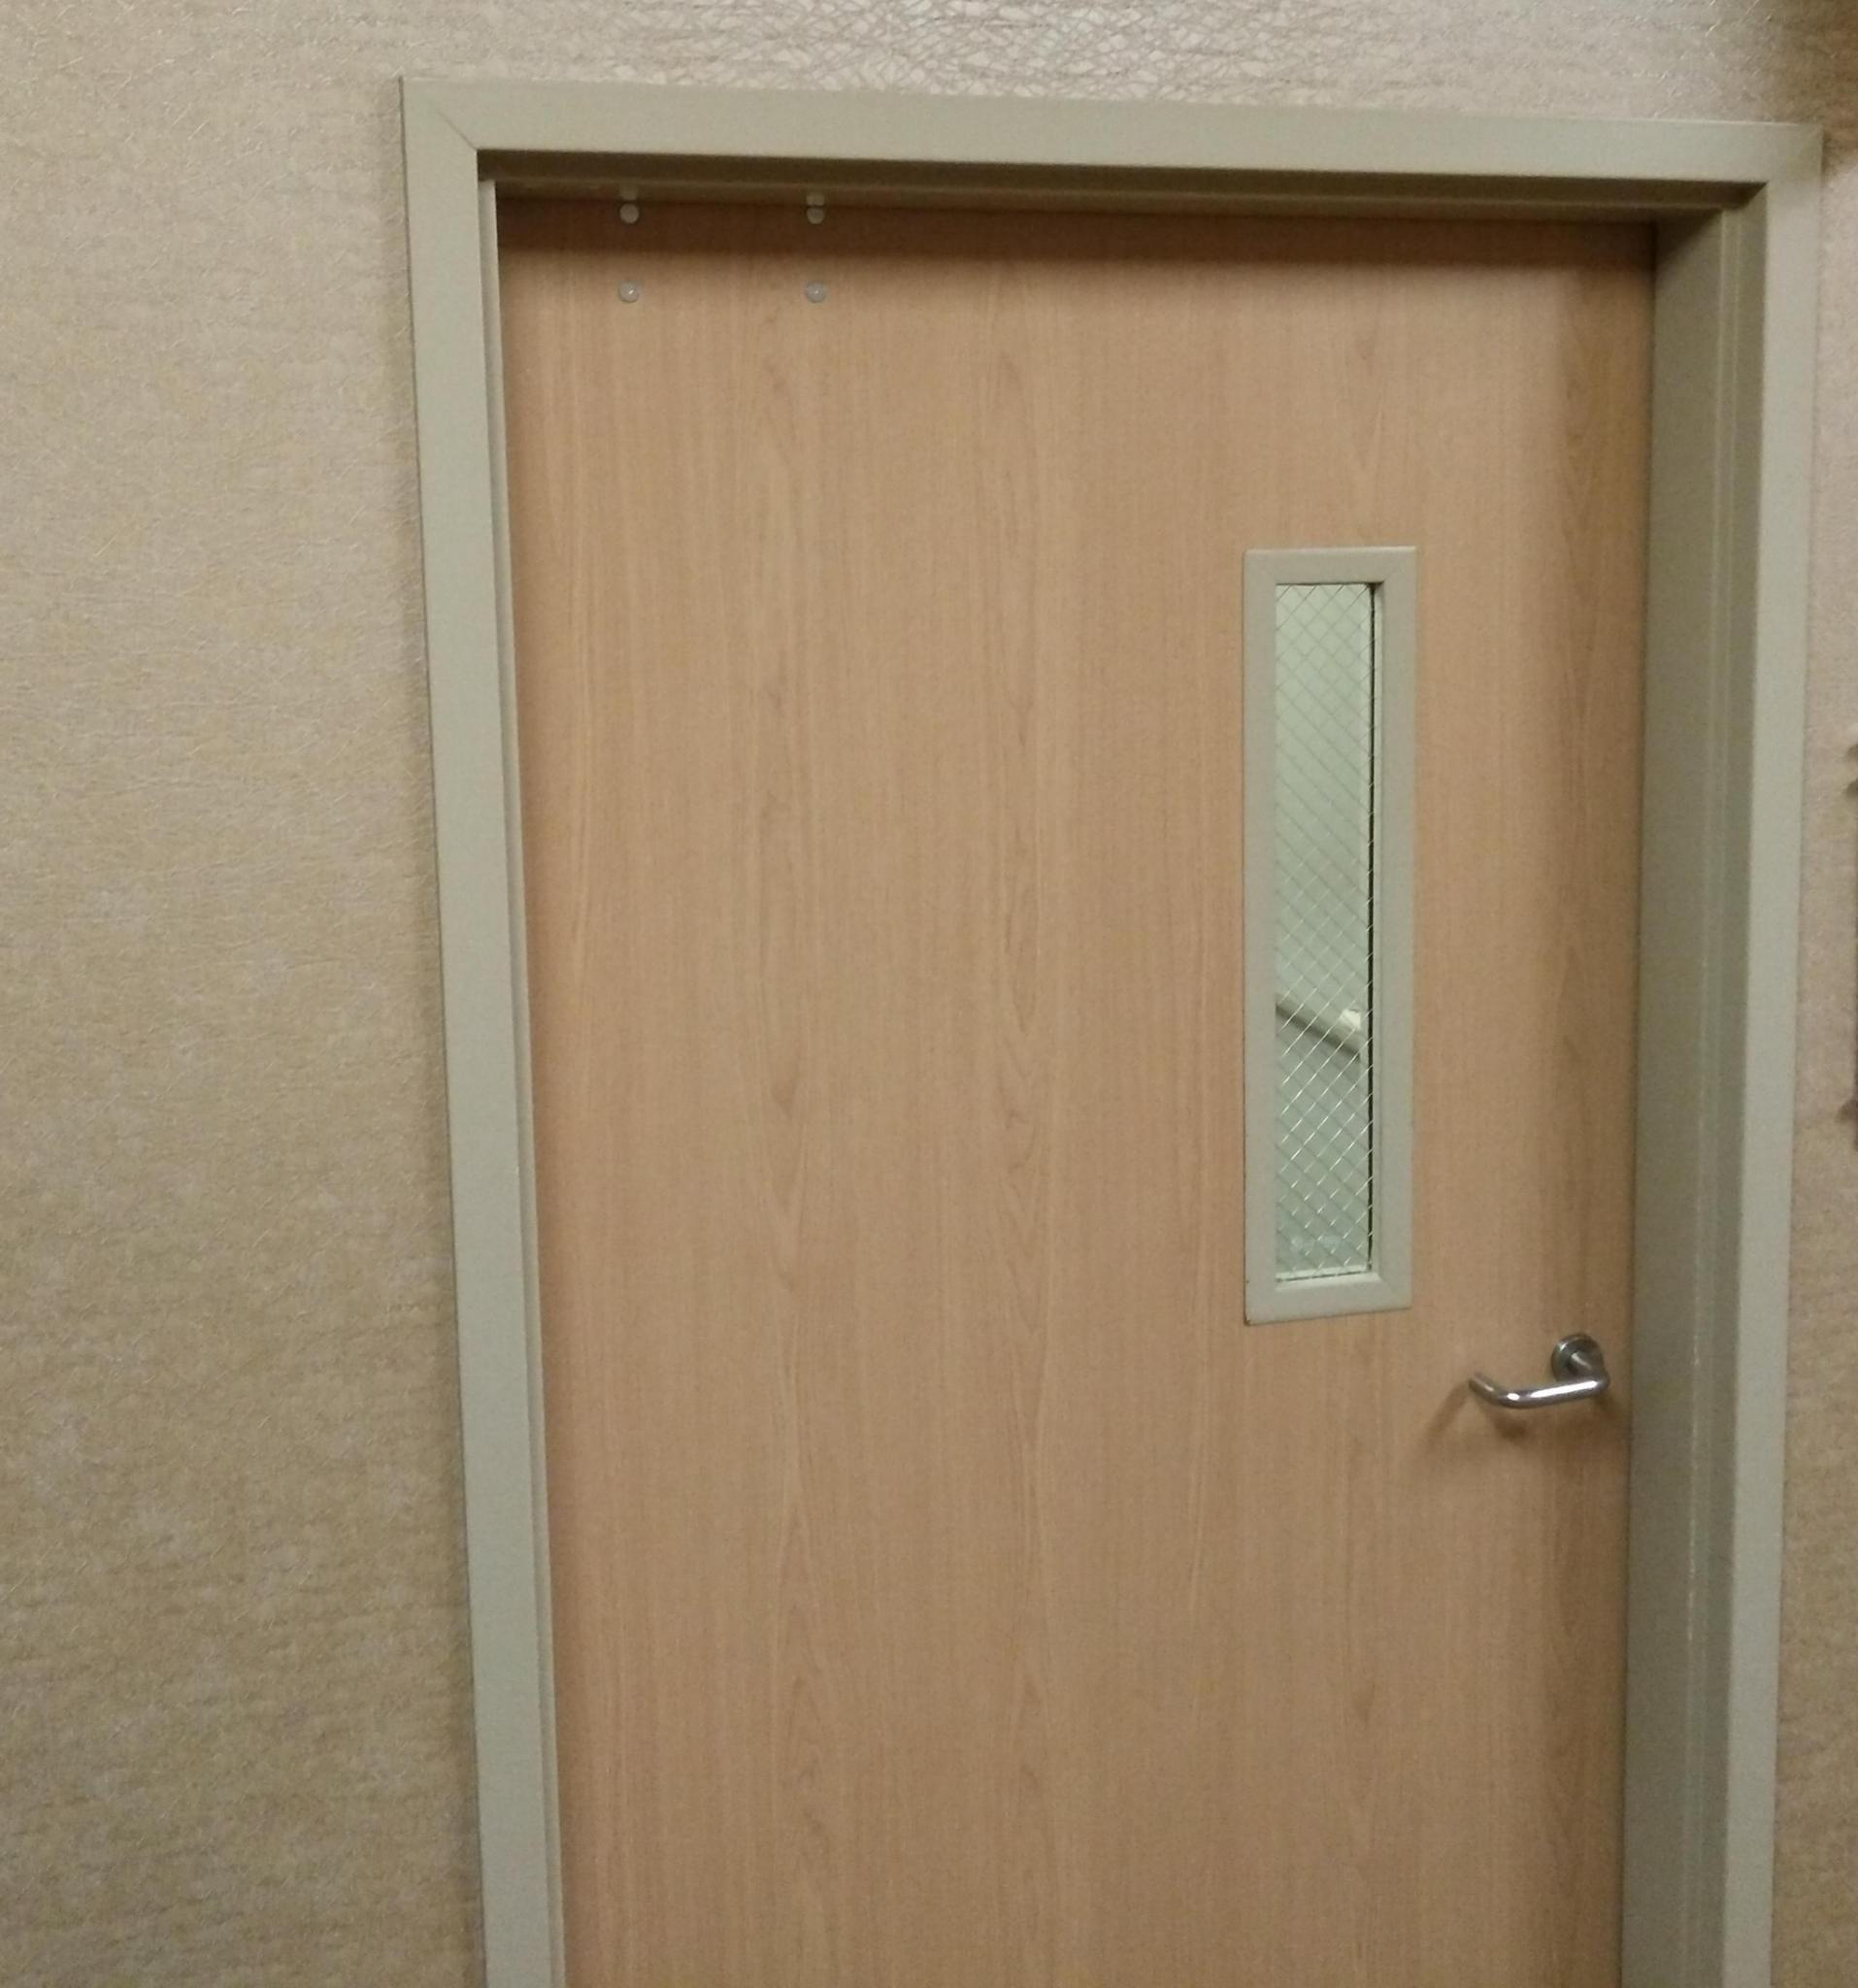door: (561, 265, 1634, 1986)
handle: (1458, 1360, 1622, 1447)
